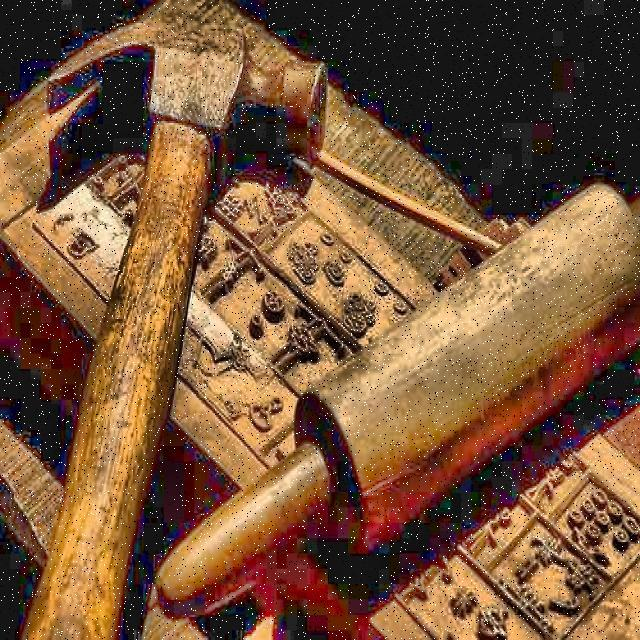hammer: (0, 11, 340, 639)
